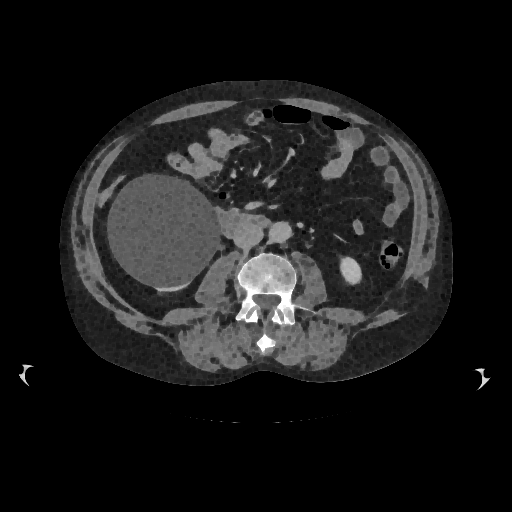Lesion: (100, 174, 223, 286)
